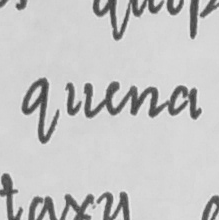a: (163, 82, 204, 122)
e: (100, 78, 124, 117)
n: (126, 82, 161, 119)
q: (18, 75, 53, 145)
u: (63, 79, 96, 120)
